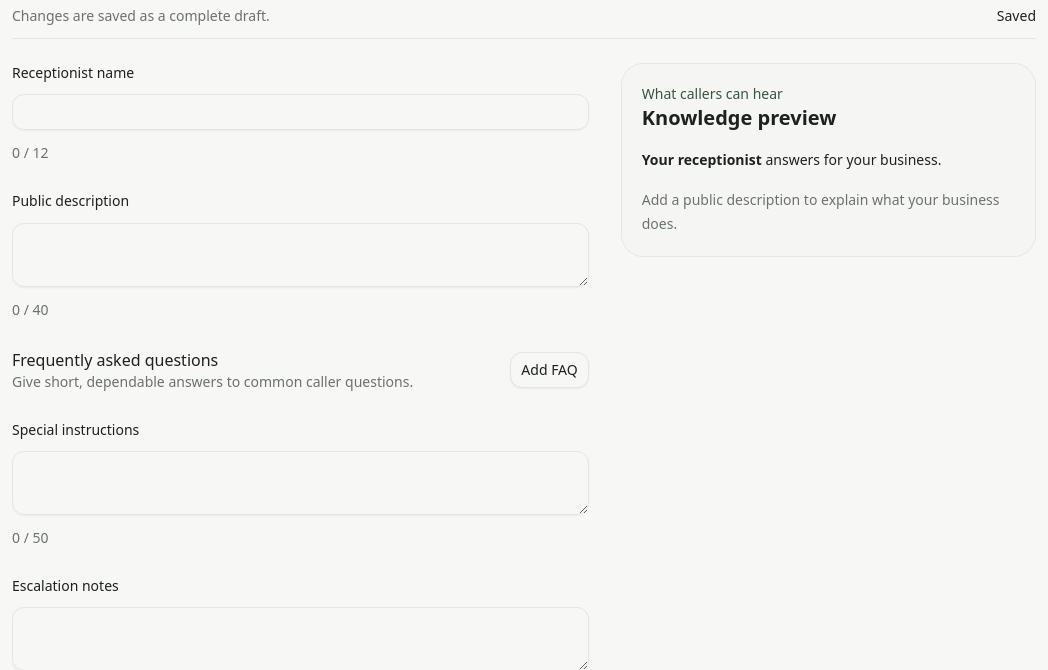
it: profile form › uses server constraints for lengths, counters, and the FAQ limit
Expected: the text "0 / 40" is shown, [12,300,48,318]
Click the button "Add FAQ". click: (550, 370)
box: [510,352,589,388]
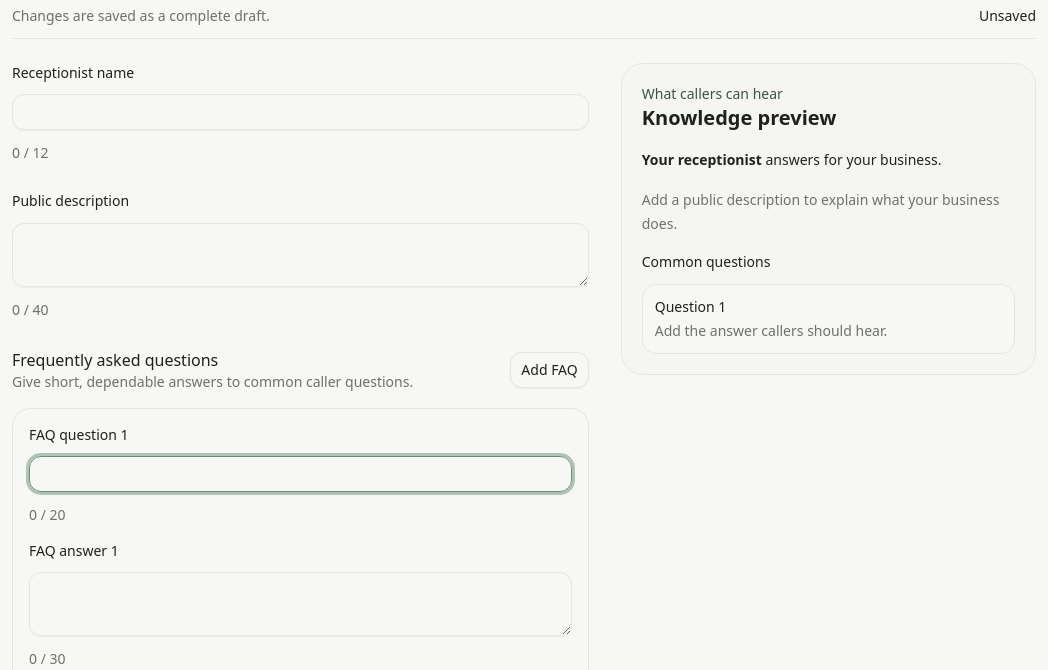
Click the button "Add FAQ". click: (550, 370)
box: [510,352,589,388]
(page scrolled)
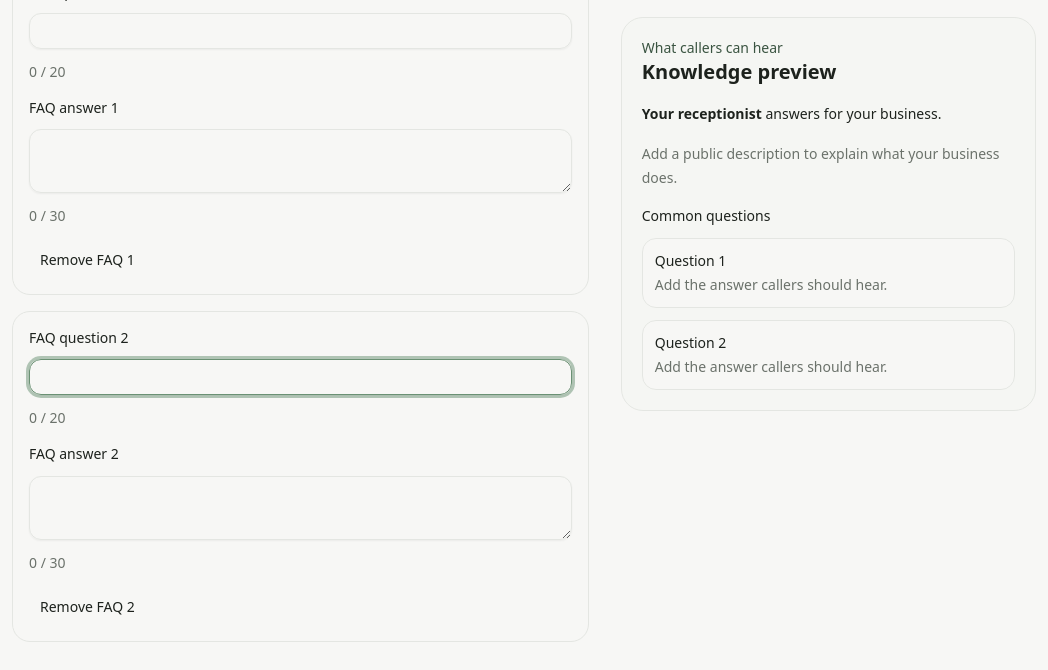
Expected: the number of text boxes labelled "FAQ answer 1" is 2, [29,129,572,193]; [29,476,572,540]
Expected: the button "Add FAQ" is gone
